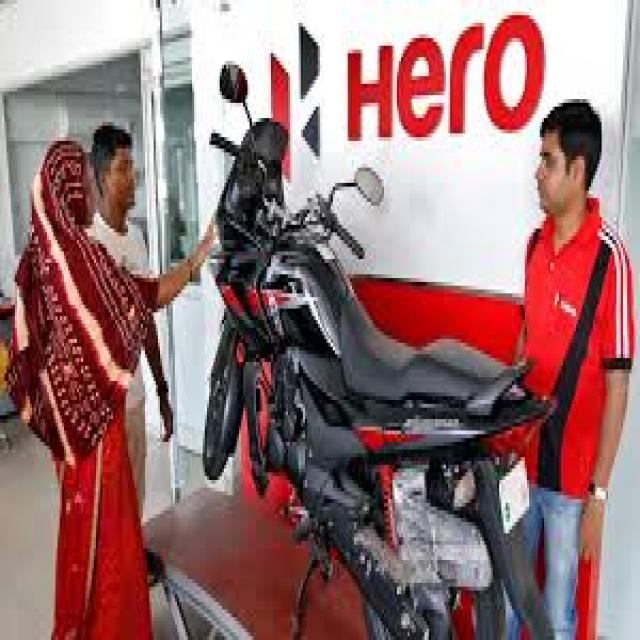Bike: (202, 61, 558, 640)
